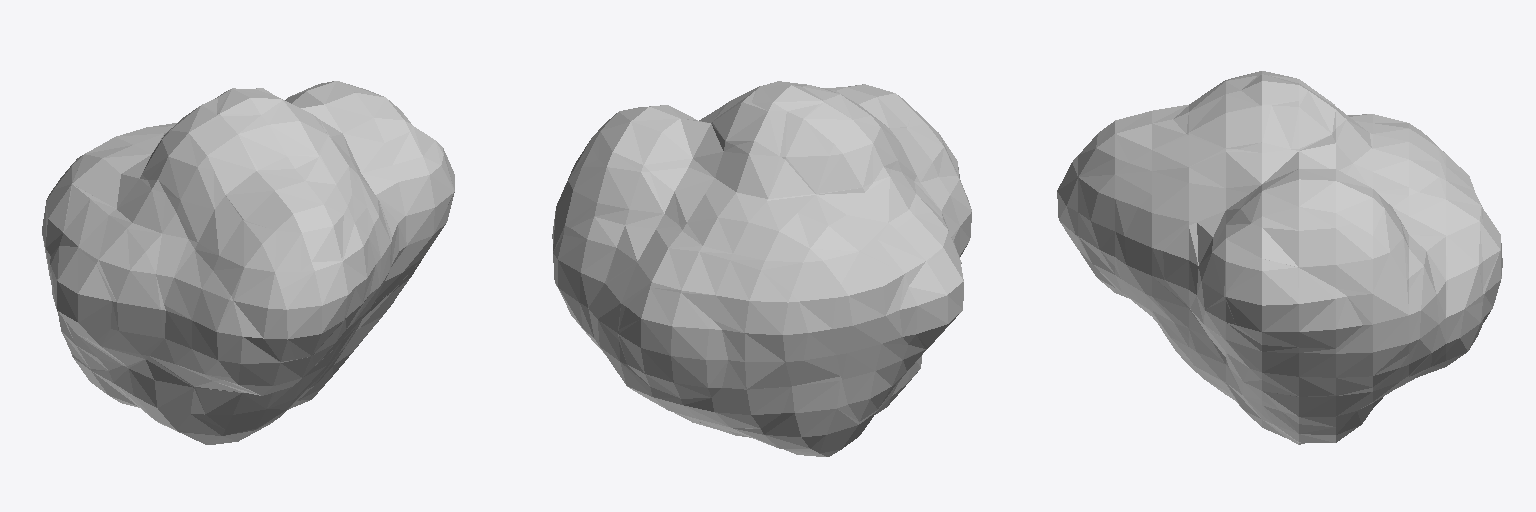
File: 1ex7_cms.obj
3 views of the same model, side by side, from view 1: azimuth 30°, elevation 25°; view 2: azimuth 150°, elevation 25°; view 3: azimuth 270°, elevation 25° (orthographic).
Bounding box in the file's own units: 58.16 × 49.26 × 59.2.